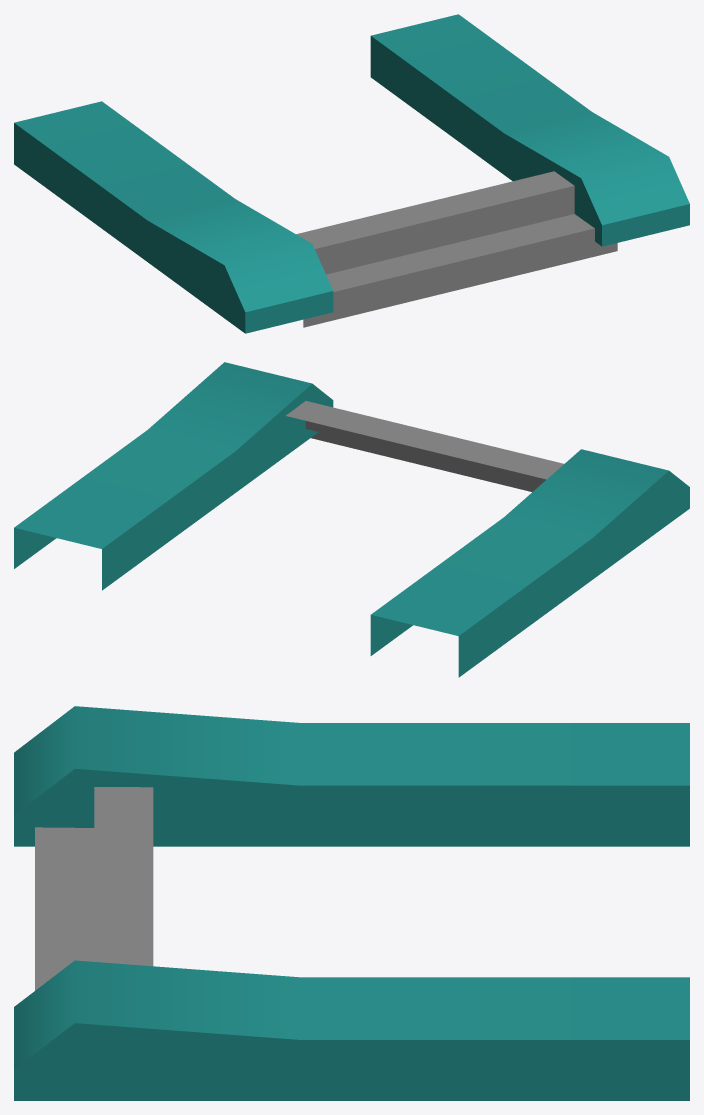
The model's file is wall a podium.FBX.
3 views of the same model, one above another, from view 1: azimuth 30°, elevation 25°; view 2: azimuth 150°, elevation 25°; view 3: azimuth 270°, elevation 25° (orthographic). The views are drawn at different scales.
Visible parts, largest first — view 1: Box053; view 2: Box053; view 3: Box053.
Boxes of the visible parts, box(x1,y1,x2,y2) form: Box053: box(14, 14, 689, 333); Box053: box(14, 362, 689, 677); Box053: box(14, 706, 689, 1100).
Bounding box in the file's own units: 2.49 × 0.3654 × 2.24.
